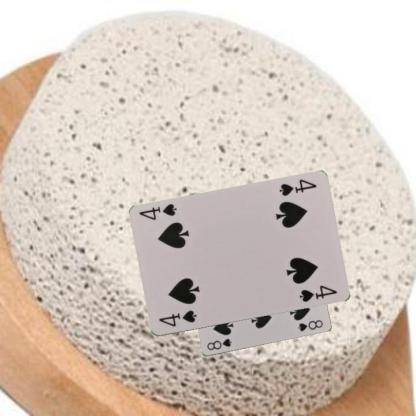4s: (277, 176, 318, 198), (156, 308, 198, 328)
8s: (204, 336, 233, 352)
